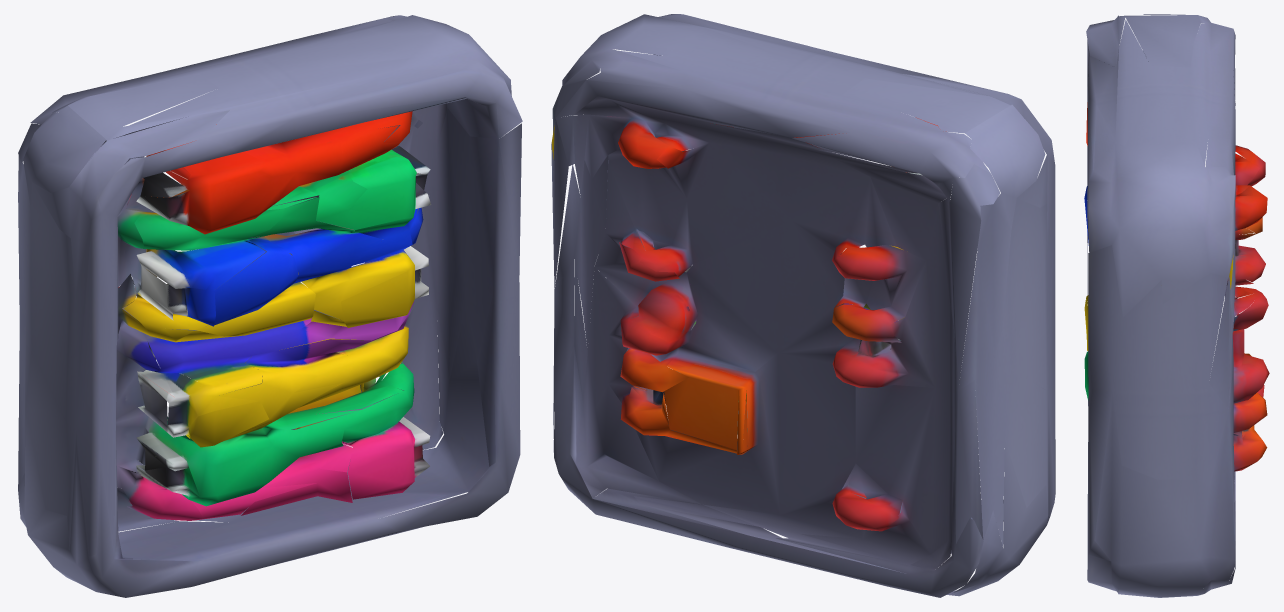
Rendered from kabelpritsche.glb.
3 renders of one model, left to right at view 1: azimuth 30°, elevation 25°; view 2: azimuth 150°, elevation 25°; view 3: azimuth 270°, elevation 25°, orthographic. The views are drawn at different scales.
Parts seen in each view (by area): view 1: tripo_node_25fa6850-4516-4c55-a967-bf7c3658d28a; view 2: tripo_node_25fa6850-4516-4c55-a967-bf7c3658d28a; view 3: tripo_node_25fa6850-4516-4c55-a967-bf7c3658d28a.
Boxes of the visible parts, left/top/right/bottom form: tripo_node_25fa6850-4516-4c55-a967-bf7c3658d28a: left=18, top=15, right=522, bottom=597; tripo_node_25fa6850-4516-4c55-a967-bf7c3658d28a: left=551, top=14, right=1055, bottom=597; tripo_node_25fa6850-4516-4c55-a967-bf7c3658d28a: left=1084, top=14, right=1269, bottom=597.
Bounding box in the file's own units: 0.9751 × 0.9808 × 0.3815.
Materials: 1 (1 with a texture image).
